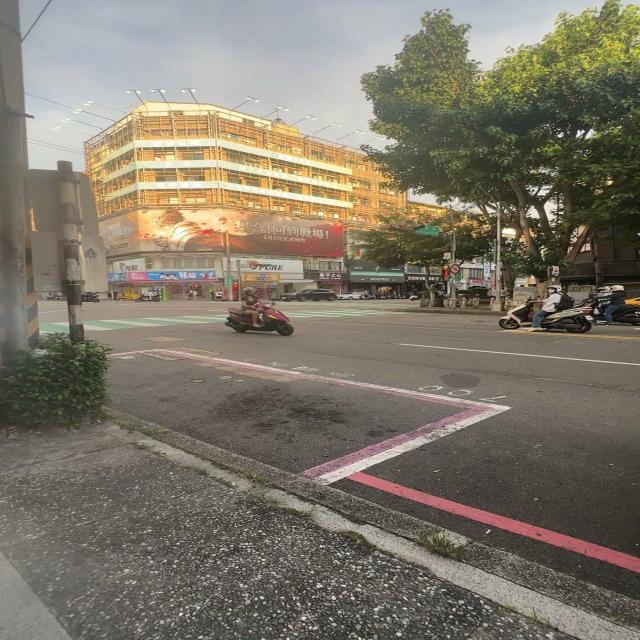car: (278, 289, 338, 301)
crosswalk: (82, 314, 226, 332), (280, 309, 430, 319), (297, 302, 421, 309)
motocycle: (225, 304, 293, 335), (540, 306, 593, 334), (499, 301, 534, 330), (613, 305, 640, 325)
